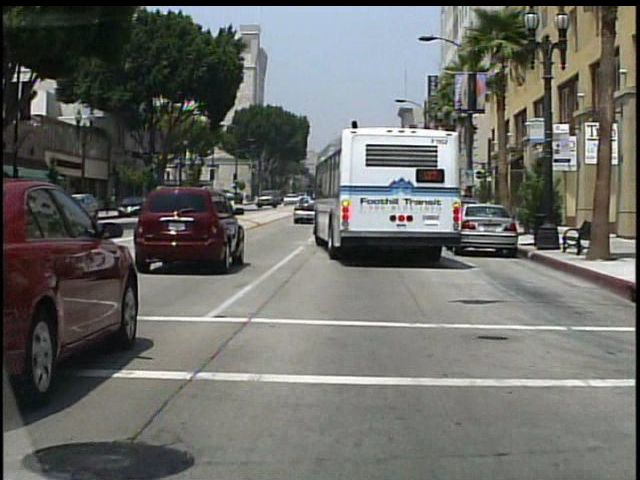person: (468, 185, 481, 226)
